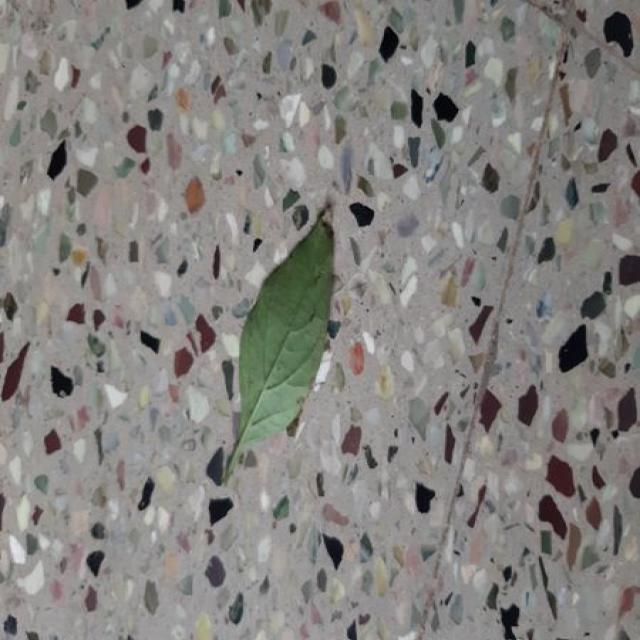chilly: (220, 212, 333, 484)
